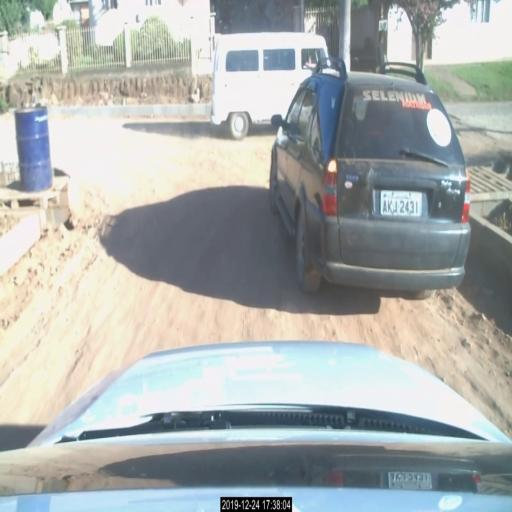Pothole: (74, 210, 142, 310)
